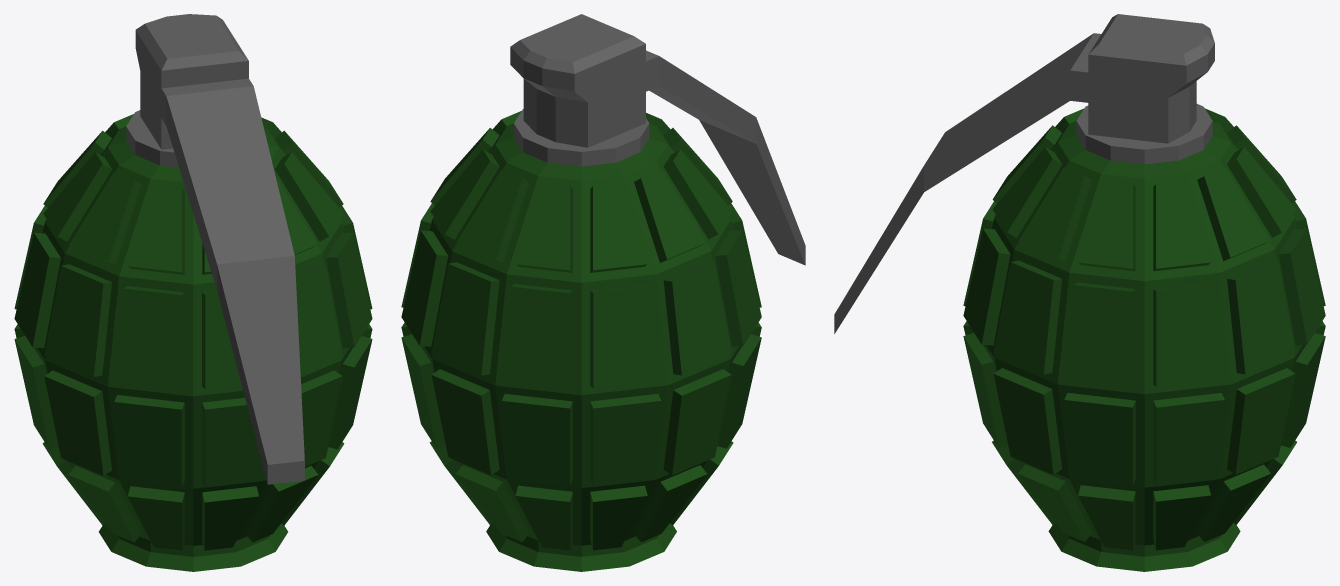
Rendered from Grenade_low.FBX.
The picture shows the model from 3 angles, left to right: view 1: azimuth 30°, elevation 25°; view 2: azimuth 150°, elevation 25°; view 3: azimuth 270°, elevation 25°; orthographic projection.
Parts seen in each view (by area): view 1: Grenade_low; view 2: Grenade_low; view 3: Grenade_low.
Boxes of the visible parts, box(x1,y1,x2,y2) form: Grenade_low: box(14, 14, 372, 571); Grenade_low: box(401, 14, 805, 571); Grenade_low: box(834, 14, 1325, 571).
Bounding box in the file's own units: 5.11 × 7.76 × 6.94.
